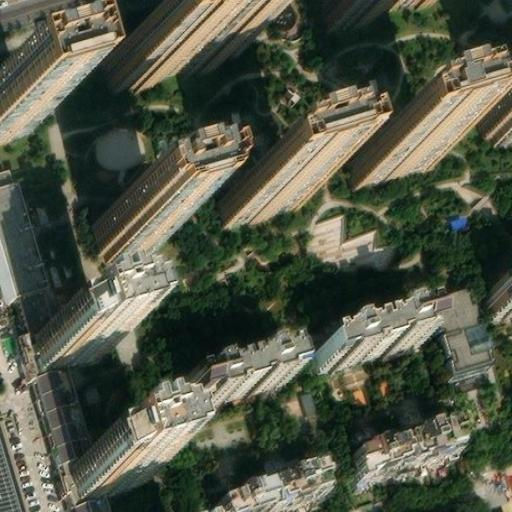building: (22, 276, 94, 467), (103, 11, 246, 86), (350, 415, 464, 474), (174, 355, 284, 409), (310, 314, 420, 368), (66, 433, 157, 494), (33, 301, 121, 363), (220, 463, 328, 512), (432, 281, 494, 366), (353, 124, 438, 177), (219, 168, 302, 219), (88, 205, 167, 255), (0, 418, 31, 512), (0, 80, 37, 131), (324, 0, 398, 20)
